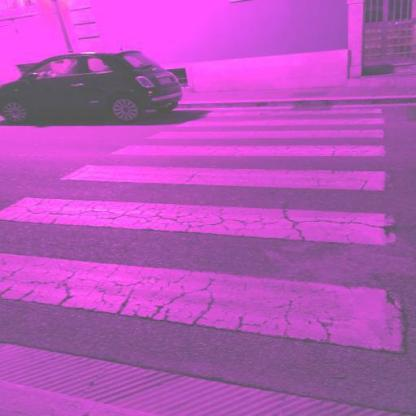crosswalk: (58, 140, 389, 198)
